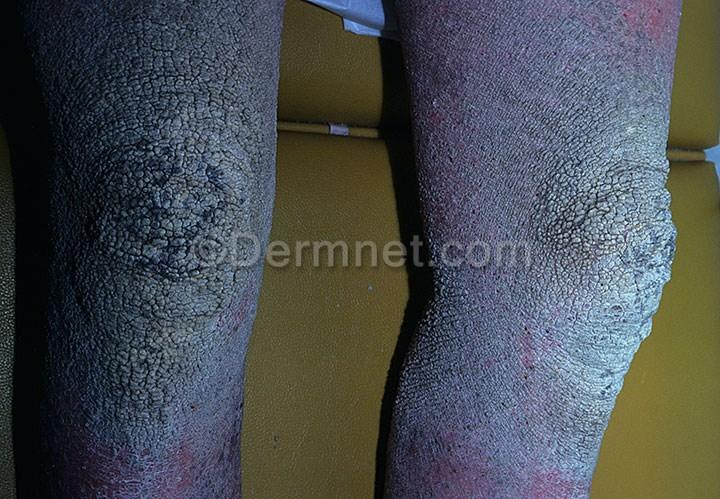xerosis 3: (381, 0, 687, 498), (31, 0, 283, 498)
